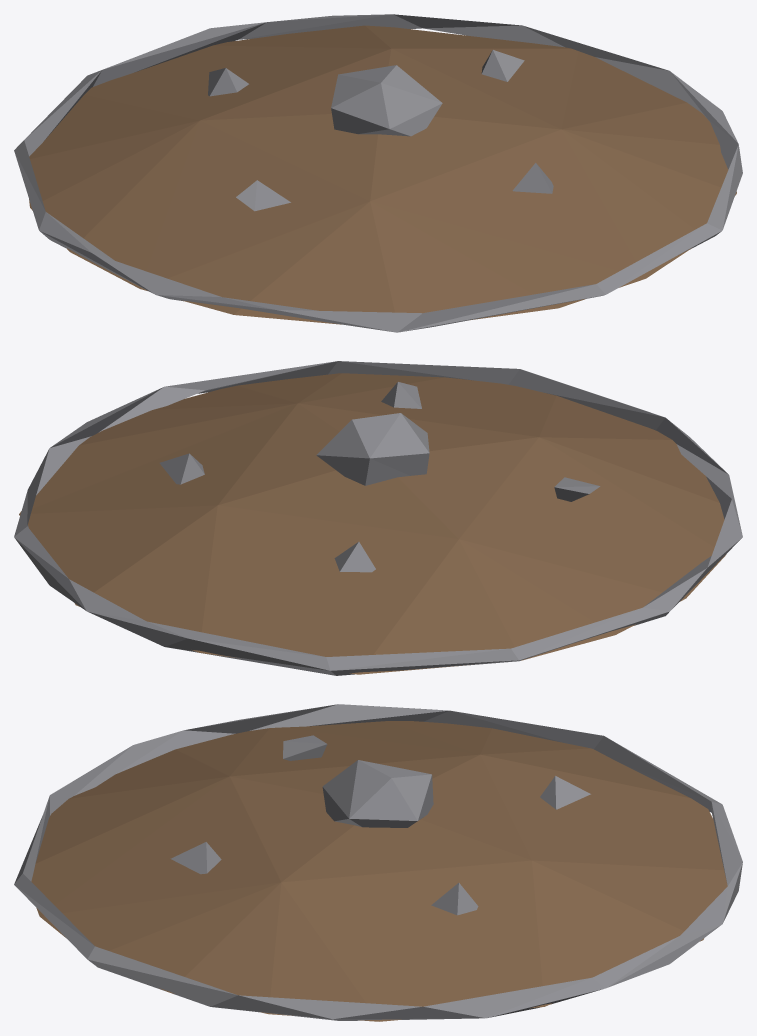
Rendered from round_shield_lod2.glb.
The picture shows the model from 3 angles, top to bottom: view 1: azimuth 30°, elevation 25°; view 2: azimuth 150°, elevation 25°; view 3: azimuth 270°, elevation 25°; orthographic projection.
Parts seen in each view (by area): view 1: m; view 2: m; view 3: m.
Part boxes in pixels (x1,y1,x2,y2): m: (14,14,742,332); m: (14,361,742,675); m: (14,704,742,1021).
Bounding box in the file's own units: 0.6158 × 0.0999 × 0.6119.
